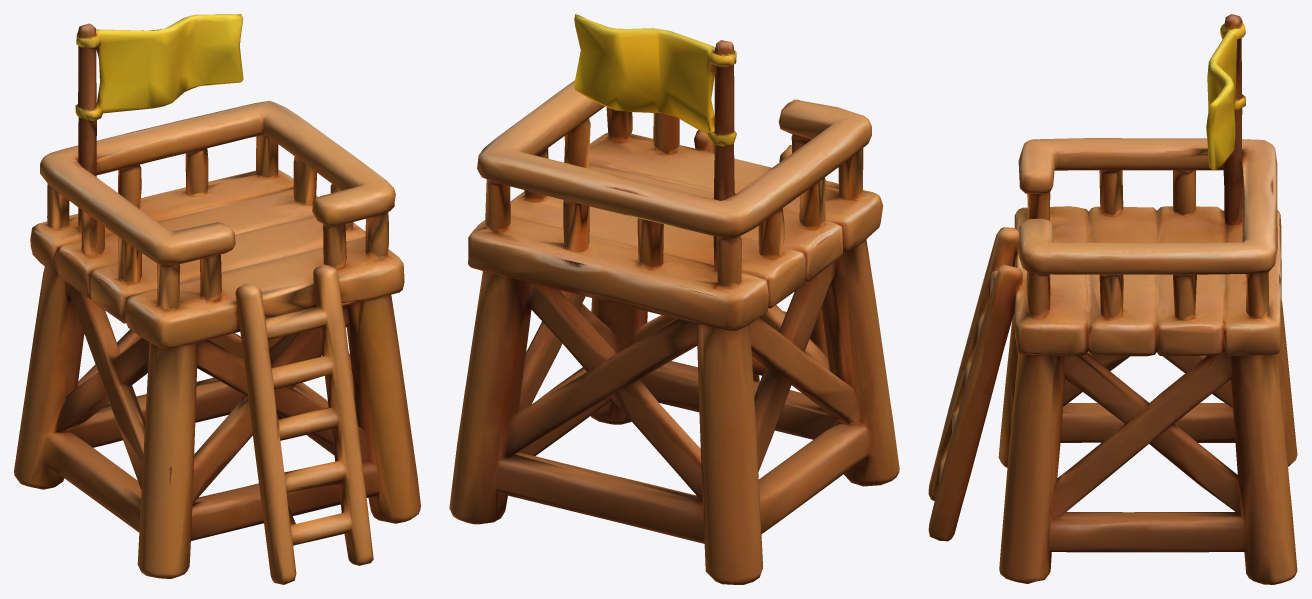
Rendered from lookout-tower.glb.
3 renders of one model, left to right at view 1: azimuth 30°, elevation 25°; view 2: azimuth 150°, elevation 25°; view 3: azimuth 270°, elevation 25°, orthographic. The views are drawn at different scales.
Parts seen in each view (by area): view 1: tripo_node_0ae9060c-db56-4775-9b0b-78fcbff035bb; view 2: tripo_node_0ae9060c-db56-4775-9b0b-78fcbff035bb; view 3: tripo_node_0ae9060c-db56-4775-9b0b-78fcbff035bb.
Part boxes in pixels (left/top/right/bottom): tripo_node_0ae9060c-db56-4775-9b0b-78fcbff035bb: left=14, top=14, right=420, bottom=584; tripo_node_0ae9060c-db56-4775-9b0b-78fcbff035bb: left=449, top=14, right=899, bottom=584; tripo_node_0ae9060c-db56-4775-9b0b-78fcbff035bb: left=928, top=14, right=1297, bottom=584.
Size of the model in its own units: 0.62 by 0.9984 by 0.7192.
1 material, 1 textured.
